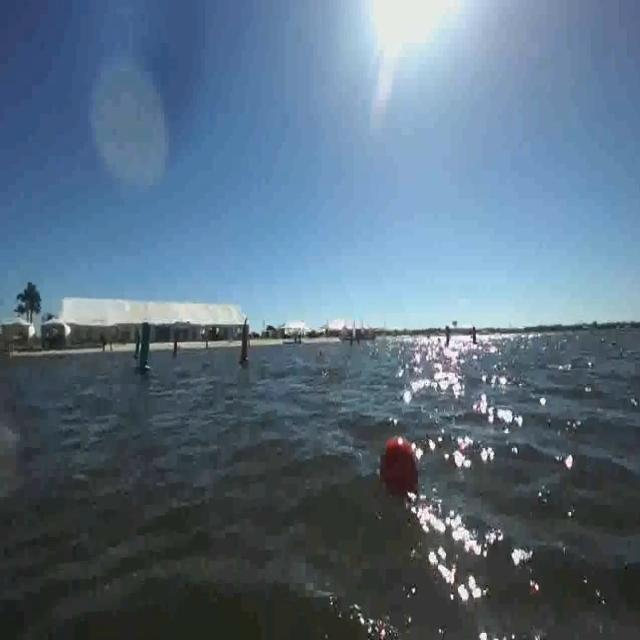green-column-buoy: (134, 320, 156, 376)
red-buoy: (380, 434, 418, 488)
red-column-buoy: (236, 328, 250, 367), (171, 334, 182, 359)
